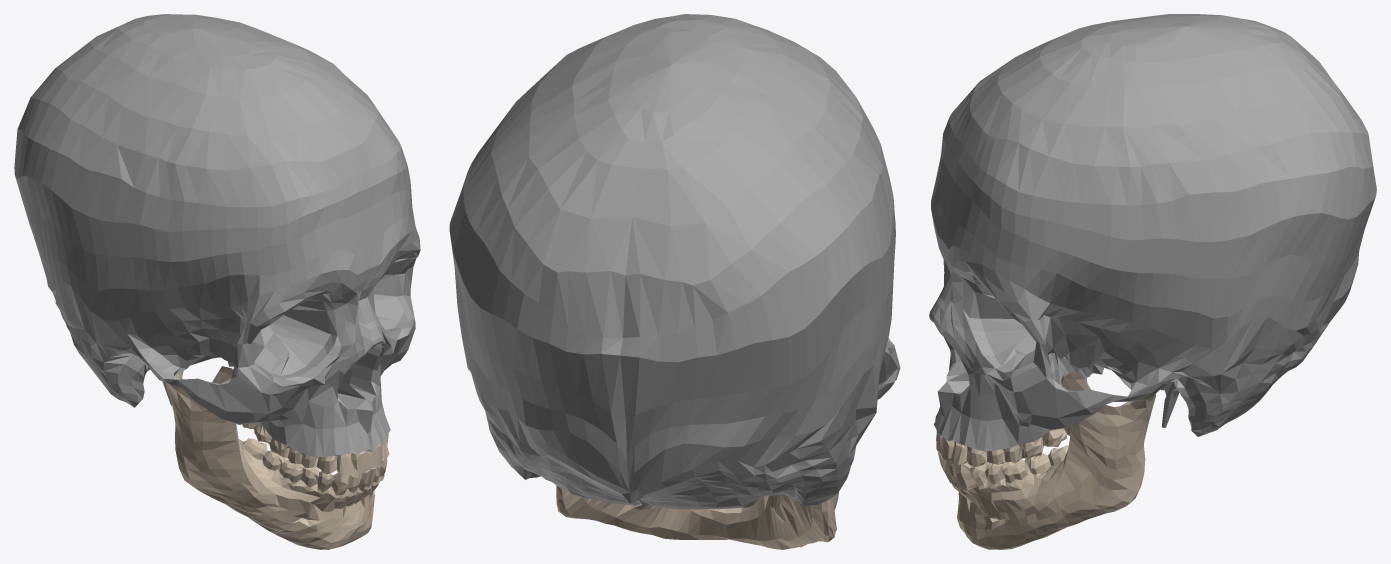
File: skull.dae
3 views of the same model, side by side, from view 1: azimuth 30°, elevation 25°; view 2: azimuth 150°, elevation 25°; view 3: azimuth 270°, elevation 25° (orthographic). The views are drawn at different scales.
Parts seen in each view (by area): view 1: node; view 2: node; view 3: node.
Part boxes in pixels (box(x1,y1,x2,y2)): node: box(14, 14, 420, 549); node: box(449, 14, 900, 549); node: box(929, 14, 1376, 549).
Size of the model in its own units: 5.23 by 7.32 by 6.14.
